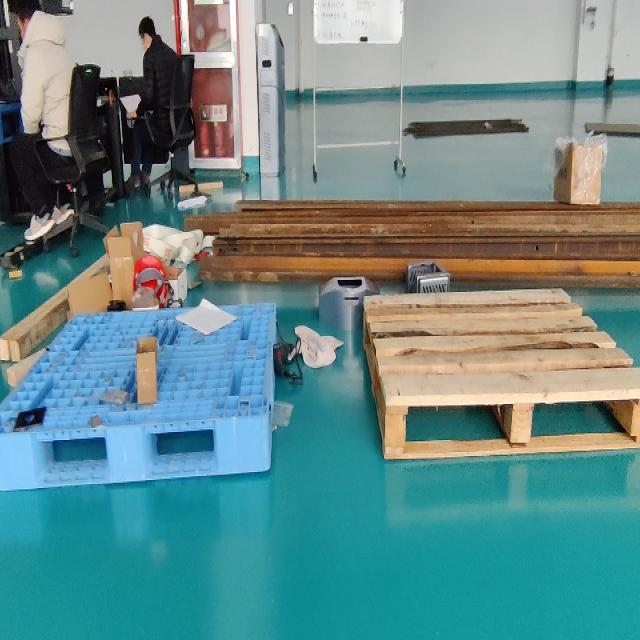euro: (363, 289, 639, 459)
